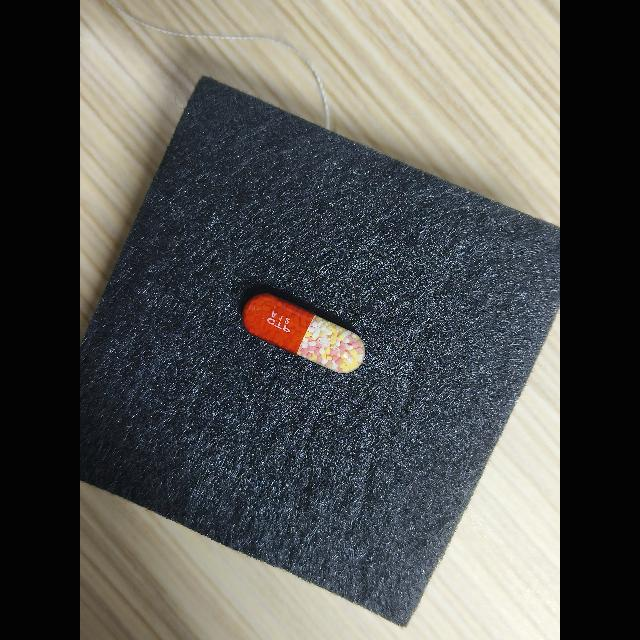Intact Capsule: (242, 293, 365, 373)
